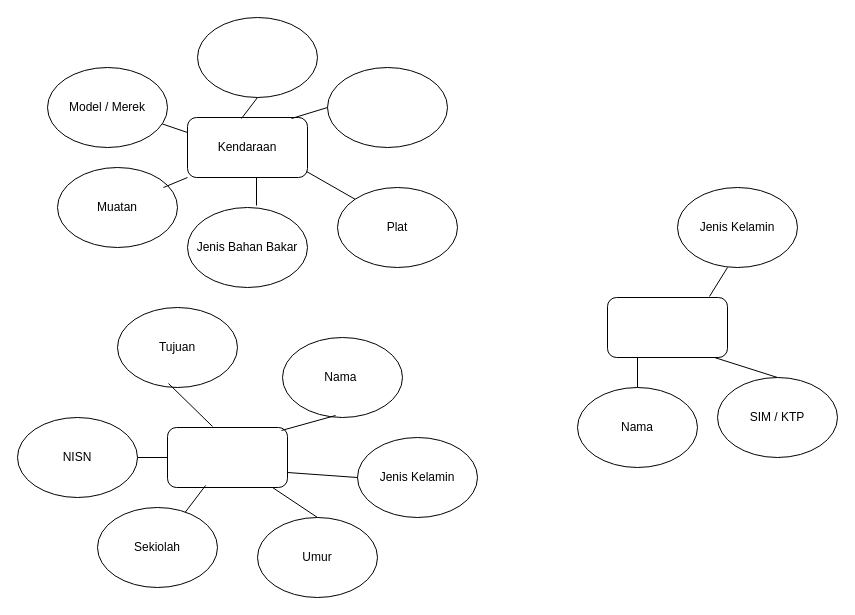
Some shapes in this 855 by 615 pixel diagram are drawn without their labels. The shapes that lost their labels are listed below. From the top down, each one's centre as x and y in pixels, then its label:
At point (257, 57): "Ban".
At point (387, 107): "Warna".
At point (667, 327): "Pengemudi".
At point (227, 457): "Penumpang".
